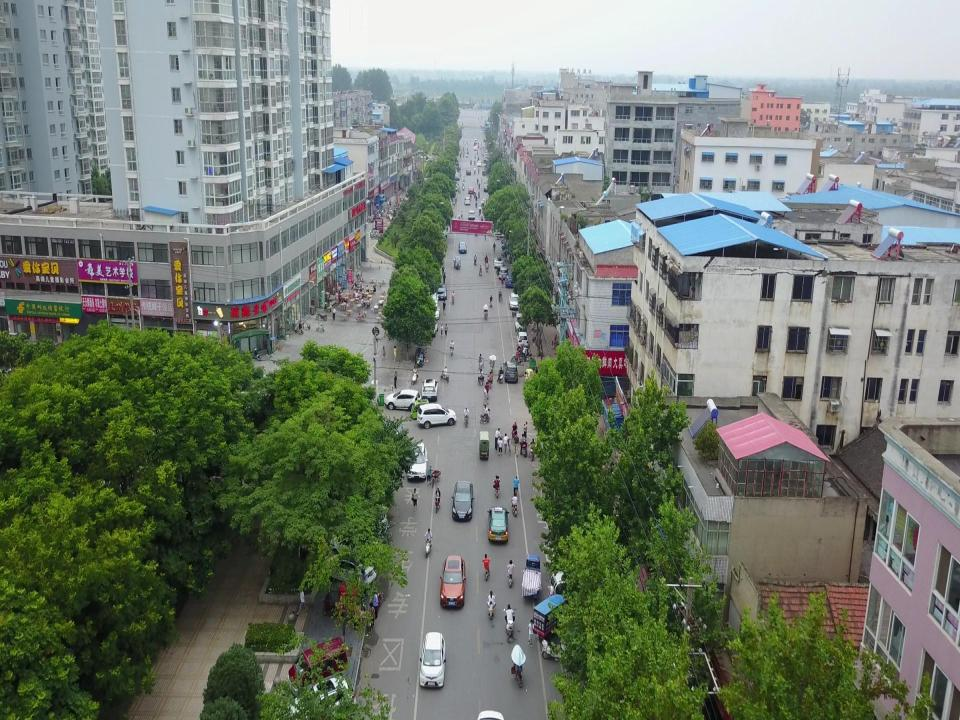car: (420, 631, 446, 689), (440, 555, 466, 610), (418, 401, 456, 427), (452, 479, 474, 521), (522, 555, 541, 602), (382, 387, 420, 410), (407, 443, 428, 481), (488, 506, 510, 542), (421, 377, 438, 399), (504, 360, 518, 380), (426, 286, 440, 305), (427, 300, 439, 320), (514, 313, 526, 330), (426, 318, 438, 335), (509, 294, 522, 309), (518, 330, 528, 349), (505, 275, 517, 290), (456, 241, 468, 254), (497, 264, 508, 278), (437, 285, 447, 299), (450, 255, 458, 270), (493, 254, 503, 266), (450, 177, 458, 190), (467, 209, 475, 221), (467, 186, 475, 193), (453, 172, 460, 180), (464, 196, 470, 205), (483, 185, 489, 192), (466, 169, 472, 175), (484, 155, 490, 160), (483, 154, 489, 158), (477, 160, 481, 165), (474, 145, 477, 150)
van: (288, 636, 348, 688), (326, 556, 378, 588), (474, 139, 478, 143)
